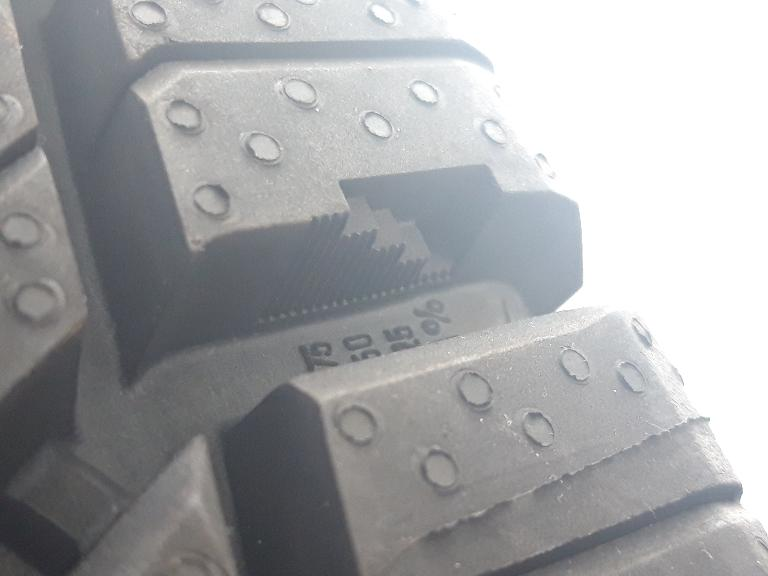temoin:100: (304, 161, 509, 318)
